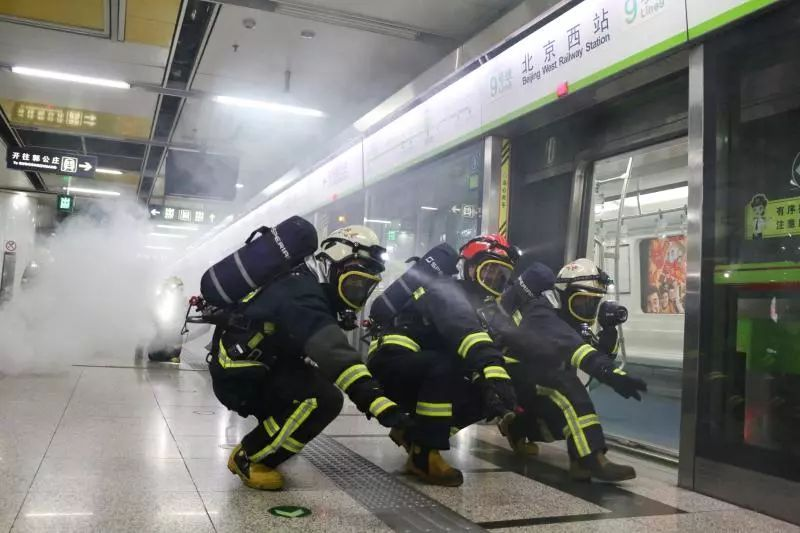smoke: (2, 215, 140, 373), (84, 188, 161, 211), (146, 337, 171, 349)
